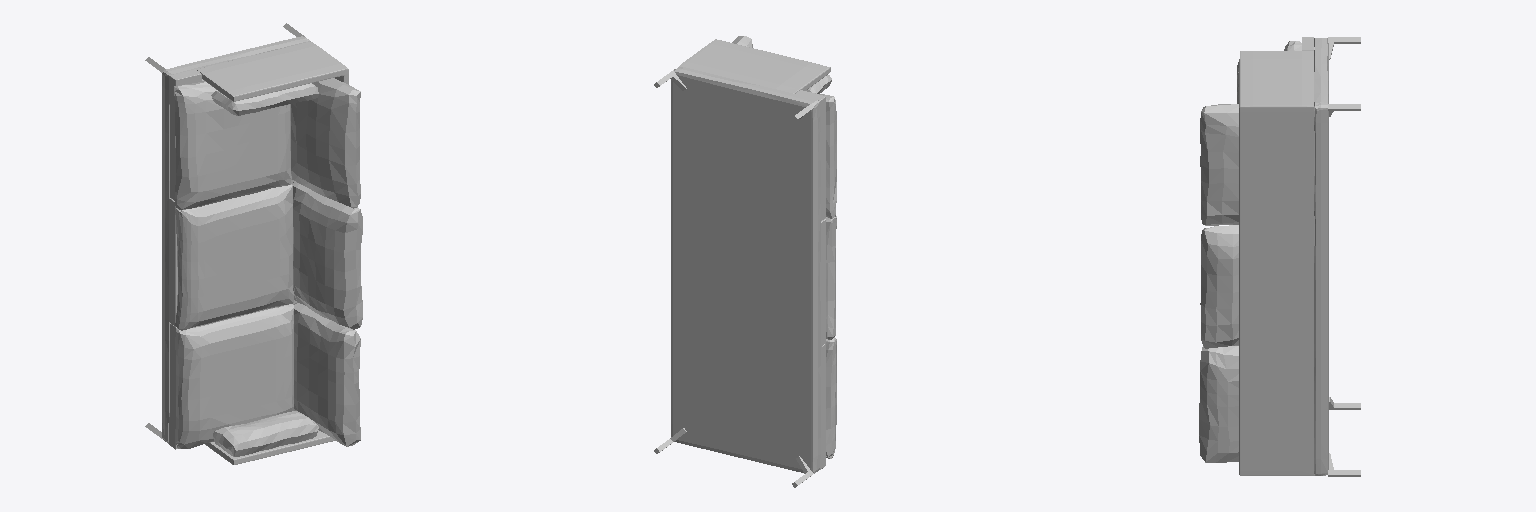
File: sofa.obj
3 views of the same model, side by side, from view 1: azimuth 30°, elevation 25°; view 2: azimuth 150°, elevation 25°; view 3: azimuth 270°, elevation 25° (orthographic).
Visible parts, largest first — view 1: therd_base_center_L_Cube.021, therd_base_right_L_Plane.002, therd_base_left_L_Plane.001, pillow_center_L_Cube.018, pillow_rigth_L_Cube.020, pillow_left_L_Cube.019, backrest_L_Cube.014, base_L_Cube.013, armrest_right_L_Cube.025, second_base_left_and_right_L_Cube.015, armrest_left_L_Cube.024, second_base_center_L_Cube.016; view 2: base_L_Cube.013, backrest_L_Cube.014, second_base_left_and_right_L_Cube.015, therd_base_left_L_Plane.001, therd_base_right_L_Plane.002, therd_base_center_L_Cube.021, legs_L_Cube.017, second_base_center_L_Cube.016; view 3: backrest_L_Cube.014, base_L_Cube.013, pillow_left_L_Cube.019, pillow_center_L_Cube.018, pillow_rigth_L_Cube.020, legs_L_Cube.017.
Part boxes in pixels (x1,y1,x2,y2): therd_base_center_L_Cube.021: (175, 184, 293, 330); therd_base_right_L_Plane.002: (175, 304, 293, 448); therd_base_left_L_Plane.001: (174, 81, 291, 209); pillow_center_L_Cube.018: (292, 181, 362, 329); pillow_rigth_L_Cube.020: (294, 302, 360, 446); pillow_left_L_Cube.019: (291, 78, 360, 208); backrest_L_Cube.014: (197, 41, 348, 464); base_L_Cube.013: (162, 36, 309, 443); armrest_right_L_Cube.025: (213, 411, 318, 456); second_base_left_and_right_L_Cube.015: (169, 69, 296, 449); armrest_left_L_Cube.024: (211, 83, 318, 115); second_base_center_L_Cube.016: (169, 180, 293, 326); base_L_Cube.013: (671, 67, 820, 473); backrest_L_Cube.014: (679, 39, 830, 93); second_base_left_and_right_L_Cube.015: (795, 90, 825, 469); therd_base_left_L_Plane.001: (811, 92, 836, 218); therd_base_right_L_Plane.002: (826, 337, 836, 458); therd_base_center_L_Cube.021: (825, 216, 836, 339); legs_L_Cube.017: (654, 70, 813, 487); second_base_center_L_Cube.016: (820, 219, 825, 346); backrest_L_Cube.014: (1239, 51, 1314, 475); base_L_Cube.013: (1314, 38, 1328, 475); pillow_left_L_Cube.019: (1200, 104, 1238, 225); pillow_center_L_Cube.018: (1200, 225, 1238, 348); pillow_rigth_L_Cube.020: (1199, 346, 1238, 462); legs_L_Cube.017: (1328, 37, 1360, 476).
Bounding box in the file's own units: 1.88 × 4.52 × 1.78.